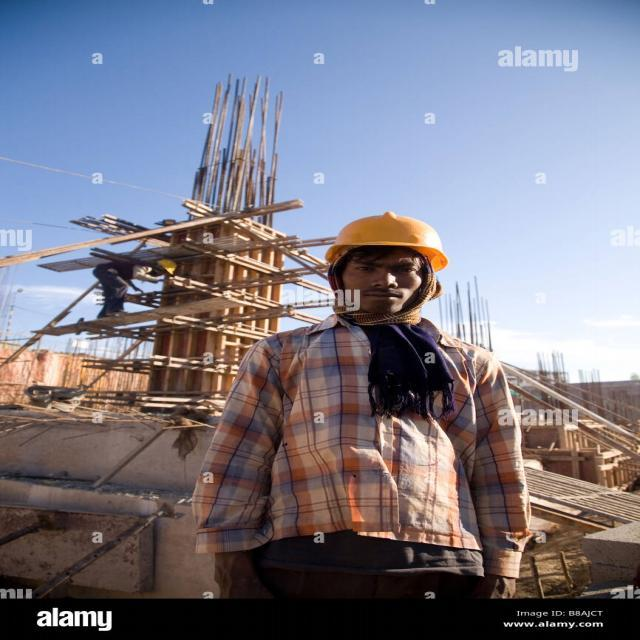safetyhelmet: (324, 208, 453, 304)
